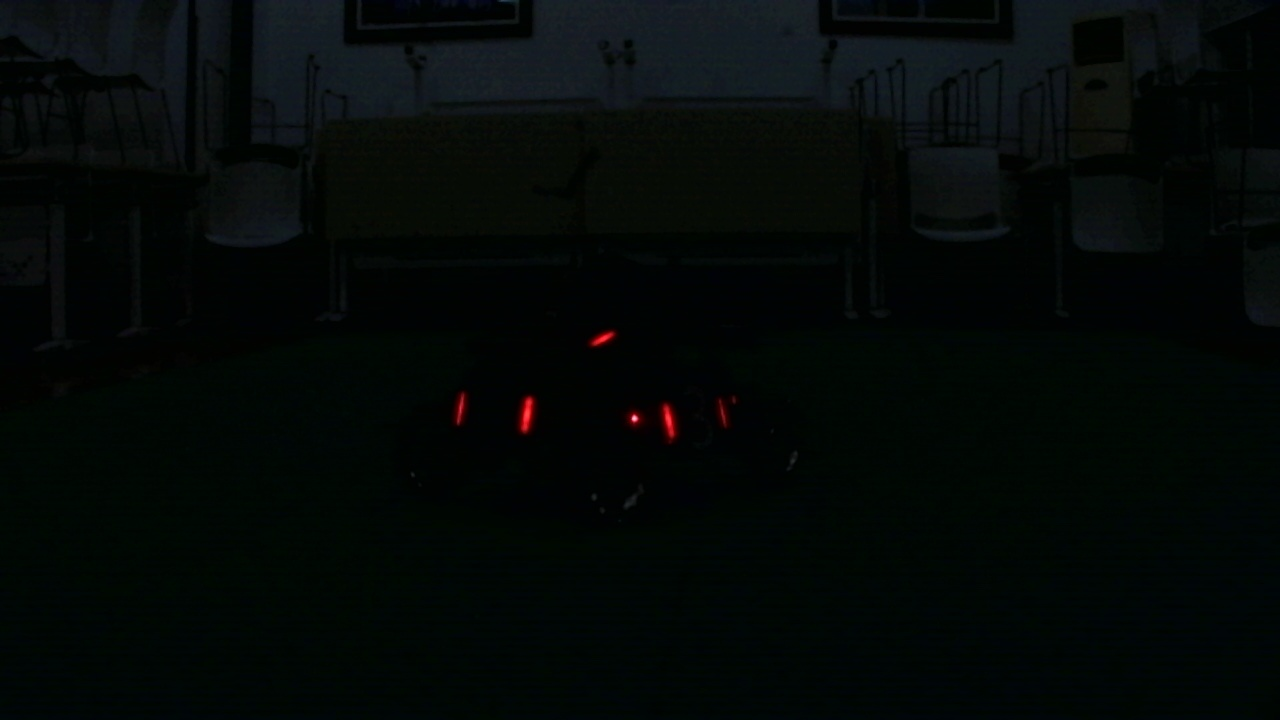lamp: (657, 401, 673, 442), (522, 392, 536, 435), (455, 390, 466, 428)
pair1: (456, 391, 537, 431)
